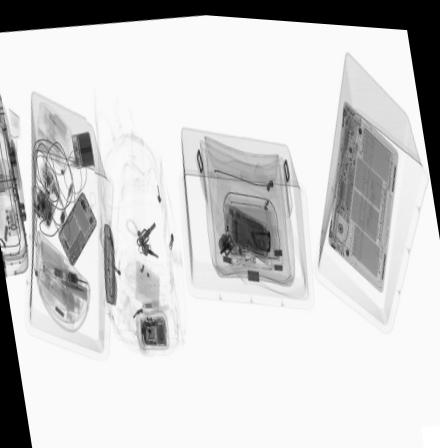Lighter: (236, 251, 257, 262)
